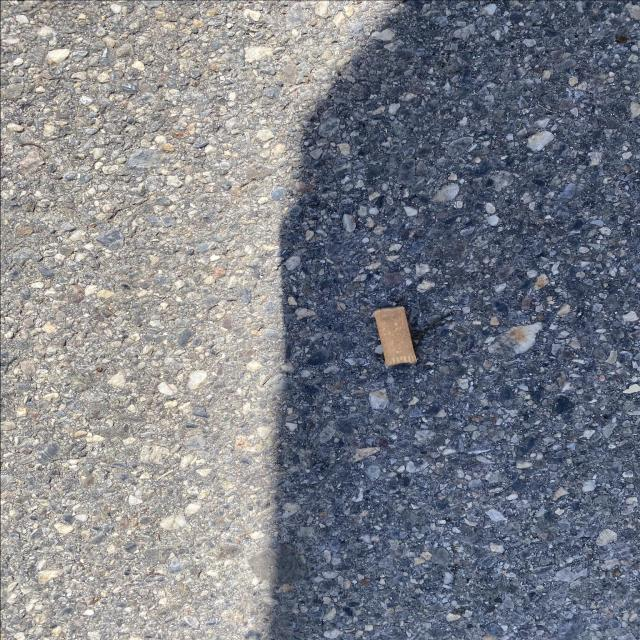other waste: (370, 304, 419, 370)
